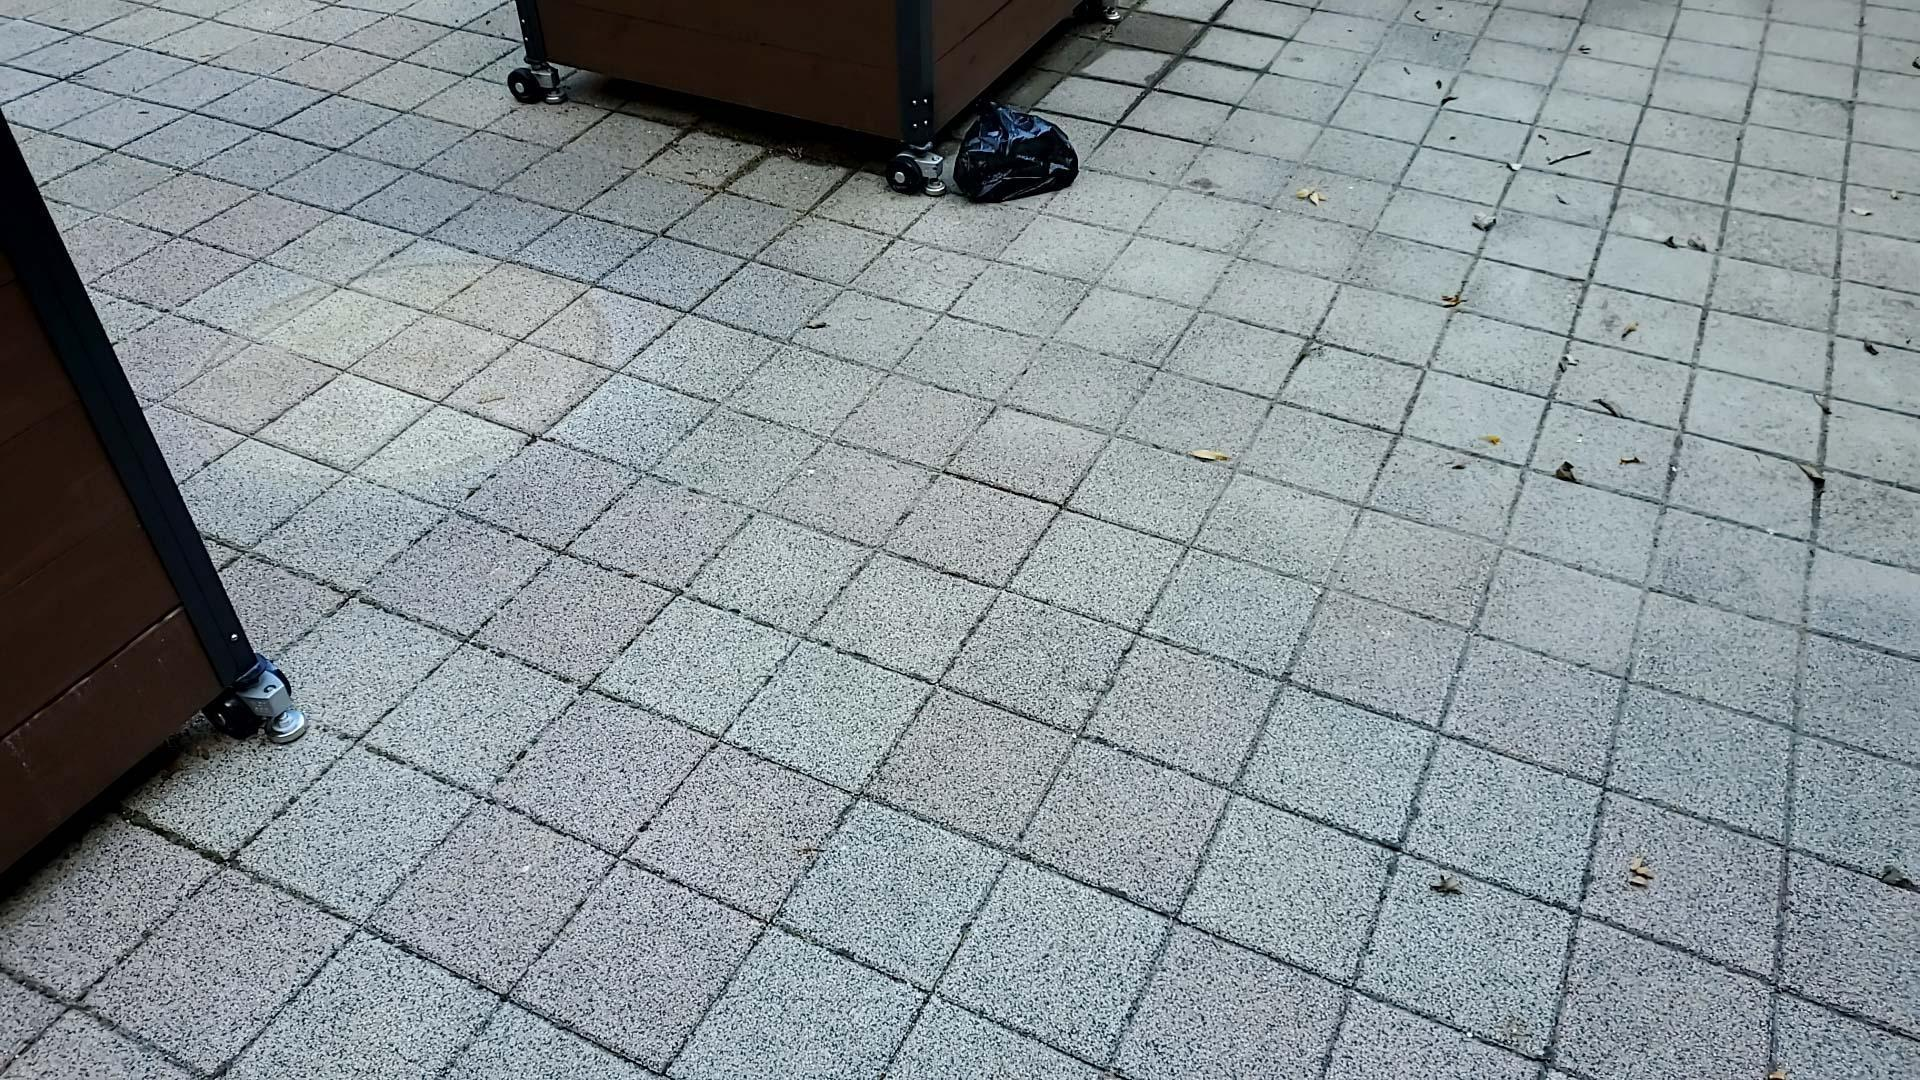black_bag: (949, 94, 1083, 211)
